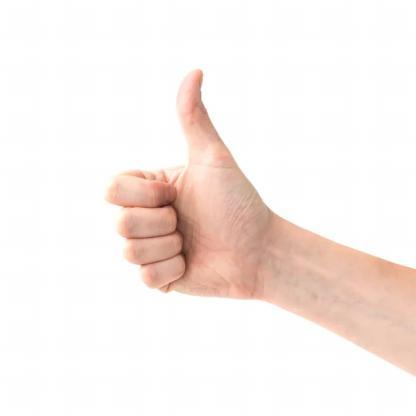thumb_up: (102, 63, 260, 302)
